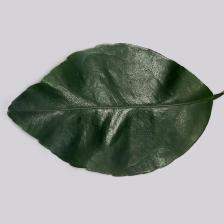healthy: (10, 46, 224, 160)
